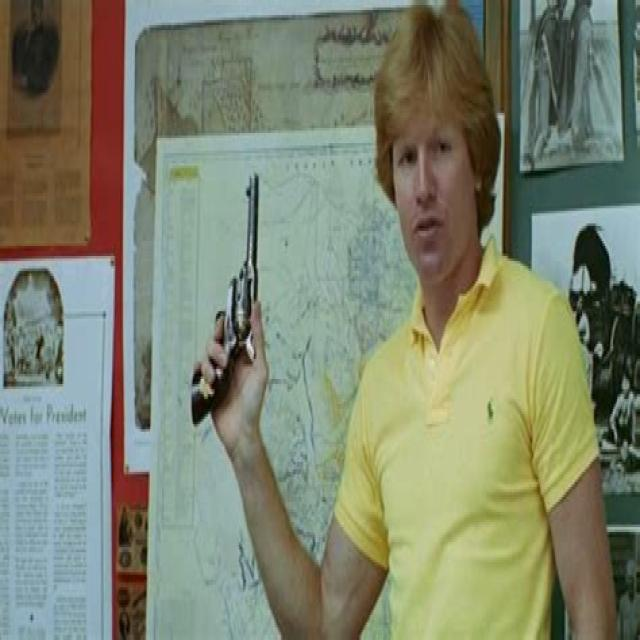weapons: (180, 144, 280, 460)
